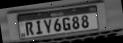placa_mercosul: (17, 4, 99, 39)
